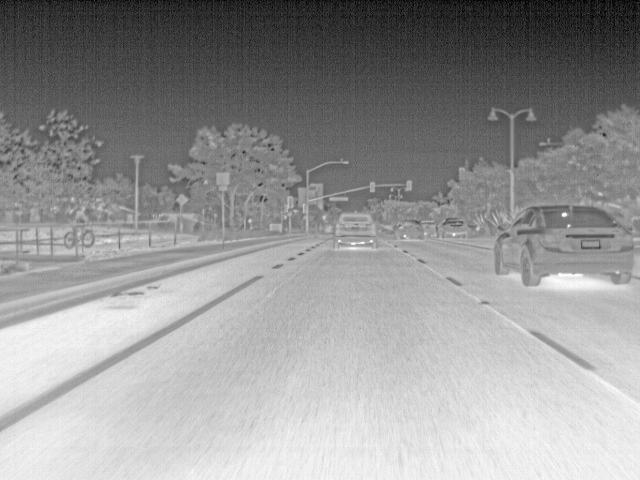car: (494, 204, 636, 287), (334, 212, 377, 249), (394, 218, 426, 240), (439, 217, 471, 239), (421, 218, 437, 237), (386, 224, 396, 235), (376, 222, 386, 232)
person: (70, 204, 88, 230)
